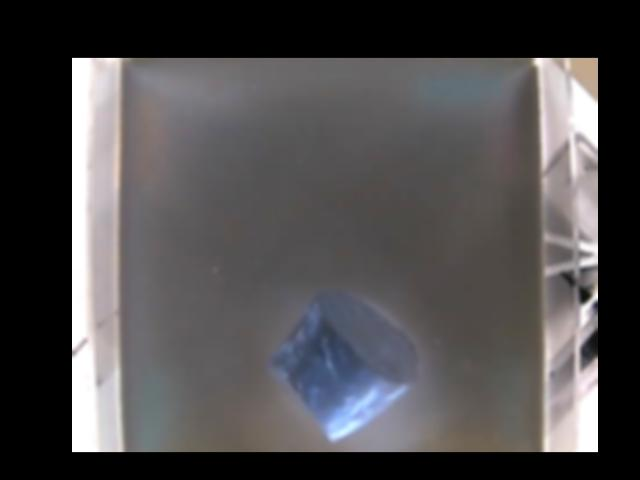Mooli: (264, 286, 417, 441)
